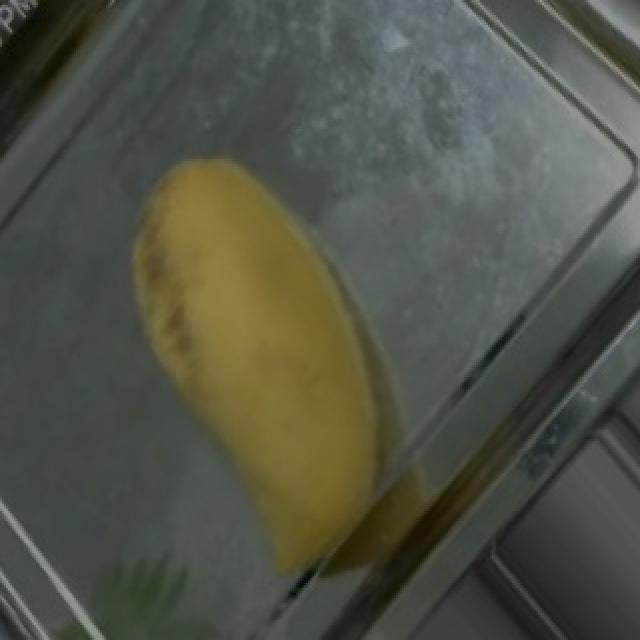fruit: (68, 109, 448, 533)
